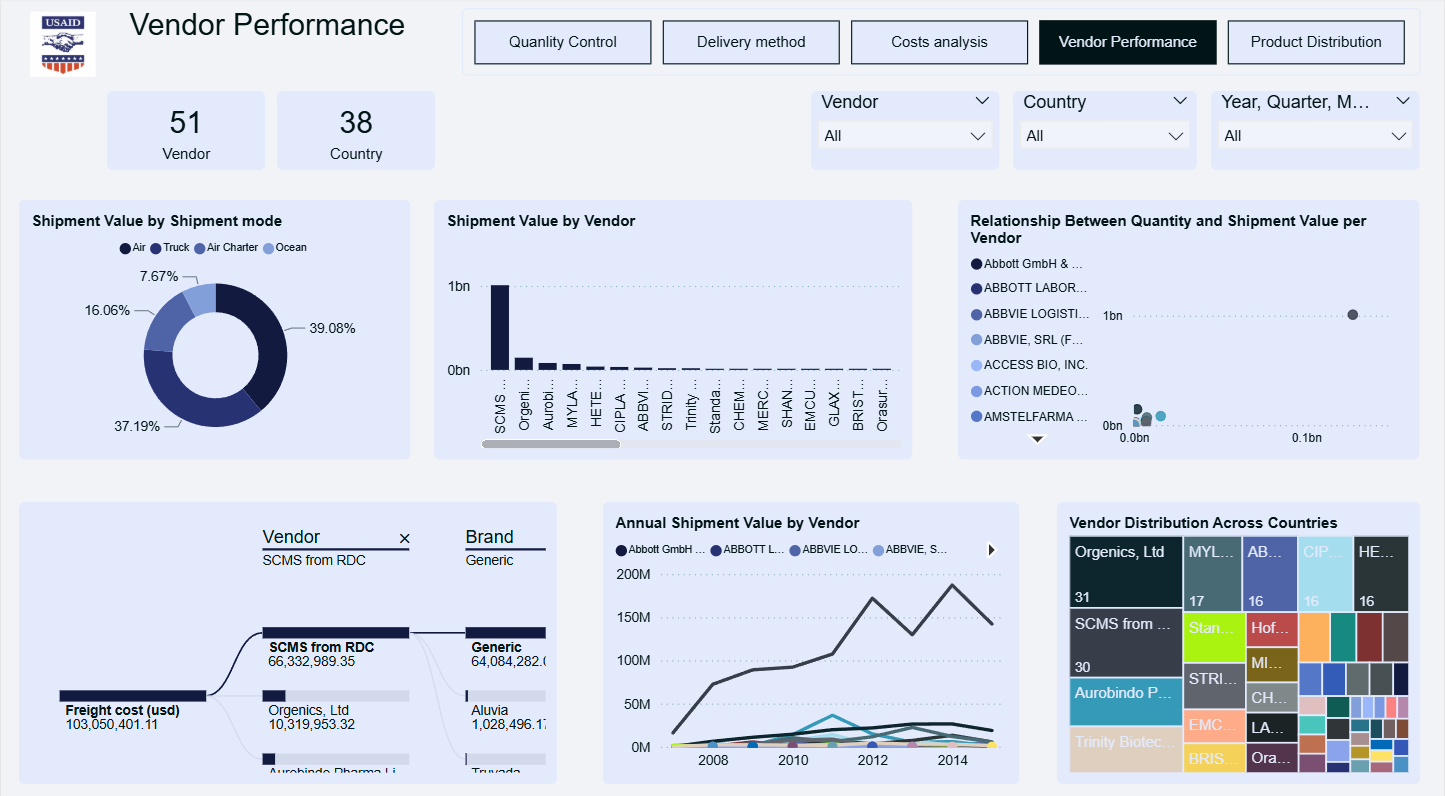

The page's visual inventory and layout, read from the dashboard file:
{"tool":"powerbi","page":{"name":"\tVendor Performance","canvas":[1280,720],"ordinal":3},"visuals":[{"type":"decompositionTreeVisual","fields":{"Analyze":["Sum(data_cleaned.freight cost (usd))"],"ExplainBy":["data_cleaned.vendor","data_cleaned.brand","data_cleaned.molecule/test type"]},"box":[15.7,447.6,476.5,249.7],"z":0},{"type":"donutChart","title":"Shipment Value by Shipment mode","fields":{"Category":["data_cleaned.shipment mode"],"Y":["Sum(data_cleaned.line item value)"]},"box":[16.1,180,347.5,230.1],"z":1000},{"type":"treemap","title":"Vendor Distribution Across Countries","fields":{"Values":["Count(data_cleaned.country)"],"Group":["data_cleaned.vendor"]},"box":[936.2,447.6,322.1,249.7],"z":2000},{"type":"lineChart","title":"Annual Shipment Value by Vendor","fields":{"Category":["data_cleaned.delivery recorded date.Variation.Date Hierarchy.Year"],"Y":["Sum(data_cleaned.line item value)"],"Series":["data_cleaned.vendor"]},"box":[533.7,447.8,369,249.9],"z":3000},{"type":"scatterChart","title":"Relationship Between Quantity and Shipment Value per Vendor","fields":{"X":["Sum(data_cleaned.line item quantity)"],"Y":["Sum(data_cleaned.line item value)"],"Series":["data_cleaned.vendor"]},"box":[849,180,409.3,230.1],"z":4000},{"type":"columnChart","title":"Shipment Value by Vendor","fields":{"Y":["Sum(data_cleaned.line item value)"],"Category":["data_cleaned.vendor"]},"box":[384.2,180,424.5,230.1],"z":5000},{"type":"textbox","box":[94,9.9,269.6,73.4],"z":6000},{"type":"slicer","fields":{"Values":["data_cleaned.vendor"]},"box":[718.2,83.3,166.7,70],"z":7000},{"type":"card","fields":{"Values":["Count(data_cleaned.vendor)"]},"box":[94,83.3,139.7,69.9],"z":8000},{"type":"slicer","fields":{"Values":["data_cleaned.country"]},"box":[897.3,83.3,163.2,70],"z":9000},{"type":"card","fields":{"Values":["Count(data_cleaned.country)"]},"box":[244.5,83.3,139.7,69.9],"z":10000},{"type":"slicer","fields":{"Values":["data_cleaned.delivery recorded date.Variation.Date Hierarchy.Year","data_cleaned.delivery recorded date.Variation.Date Hierarchy.Quarter","data_cleaned.delivery recorded date.Variation.Date Hierarchy.Month","data_cleaned.delivery recorded date.Variation.Date Hierarchy.Day"]},"box":[1072.9,83.3,185.3,70],"z":11000},{"type":"pageNavigator","box":[408.4,9.9,849.9,60],"z":12000},{"type":"image","box":[16.1,0,77.9,83.3],"z":13000}]}

Visuals, with their boxes in screenshot pixels (x1, y1, x2, y2), scaled from the page's 1280x720 canvas onto the 1445x796 screenshot:
decompositionTreeVisual - Sum(data_cleaned.freight cost (usd)) x data_cleaned.vendor: detection(18, 495, 556, 771)
"Shipment Value by Shipment mode" donutChart: detection(18, 199, 410, 453)
"Vendor Distribution Across Countries" treemap: detection(1057, 495, 1421, 771)
"Annual Shipment Value by Vendor" lineChart: detection(602, 495, 1019, 771)
"Relationship Between Quantity and Shipment Value per Vendor" scatterChart: detection(958, 199, 1421, 453)
"Shipment Value by Vendor" columnChart: detection(434, 199, 913, 453)
textbox: detection(106, 11, 410, 92)
slicer - data_cleaned.vendor: detection(811, 92, 999, 169)
card - Count(data_cleaned.vendor): detection(106, 92, 264, 169)
slicer - data_cleaned.country: detection(1013, 92, 1197, 169)
card - Count(data_cleaned.country): detection(276, 92, 434, 169)
slicer - data_cleaned.delivery recorded date.Variation.Date Hierarchy.Year x data_cleaned.delivery recorded date.Variation.Date Hierarchy.Quarter: detection(1211, 92, 1420, 169)
pageNavigator: detection(461, 11, 1421, 77)
image: detection(18, 0, 106, 92)
